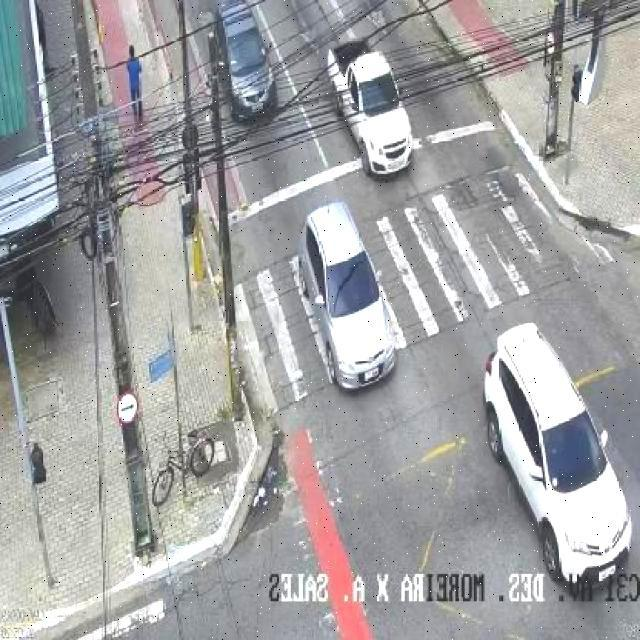Car: (482, 321, 634, 590), (298, 200, 400, 394), (212, 0, 277, 121)
Cycle: (152, 429, 216, 506)
Truck: (325, 36, 414, 176)
